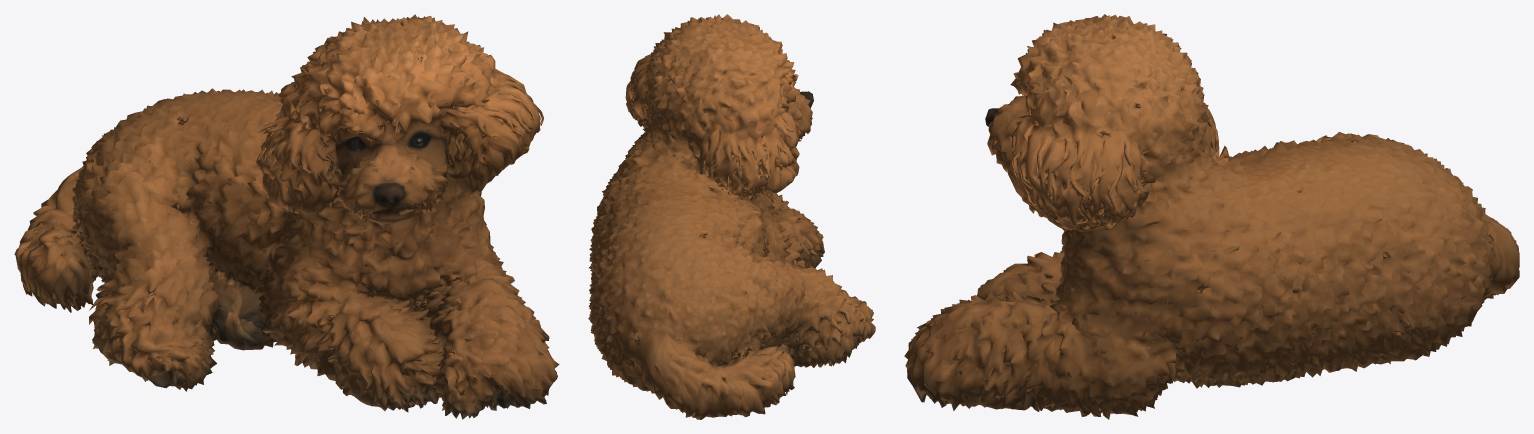
File: poodle-memorial.glb
3 views of the same model, side by side, from view 1: azimuth 30°, elevation 25°; view 2: azimuth 150°, elevation 25°; view 3: azimuth 270°, elevation 25° (orthographic). The views are drawn at different scales.
Visible parts, largest first — view 1: Poodle in Bloom Memorial; view 2: Poodle in Bloom Memorial; view 3: Poodle in Bloom Memorial.
Part boxes in pixels (x1,y1,x2,y2): Poodle in Bloom Memorial: (14,14,559,419); Poodle in Bloom Memorial: (588,14,875,419); Poodle in Bloom Memorial: (904,14,1519,419).
Size of the model in its own units: 1.35 by 1.18 by 1.9.
1 material, 1 textured.
